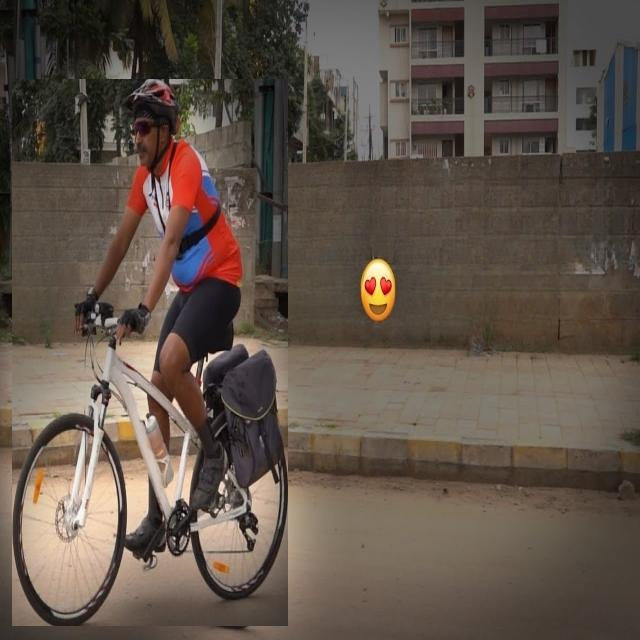bicycle: (12, 80, 288, 626)
